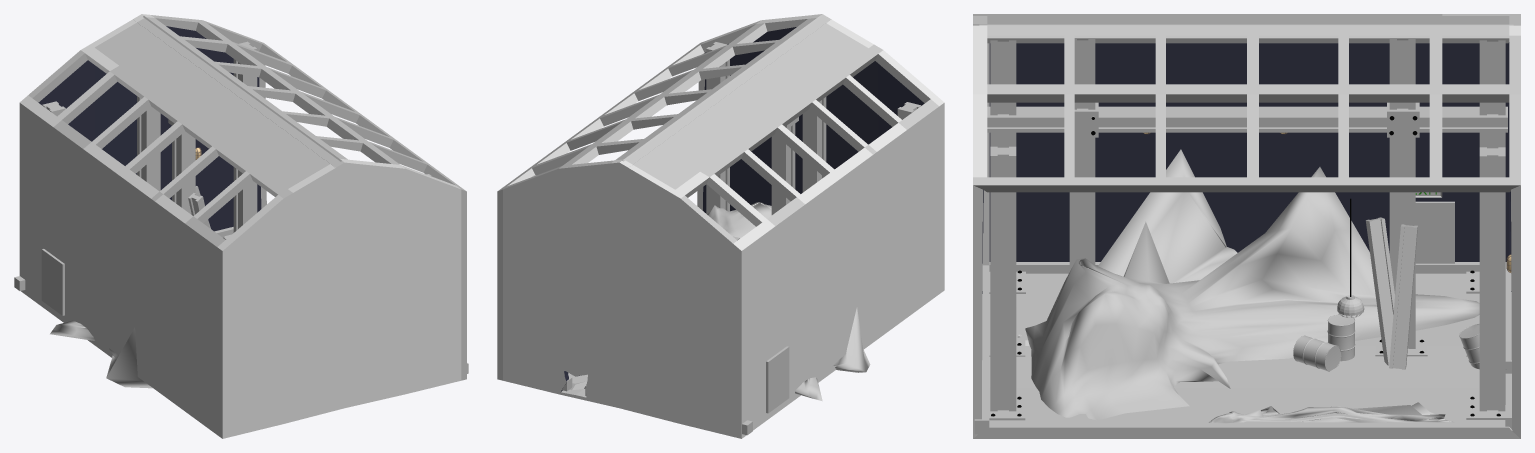
The model's file is 03_HANGAR_3-12_12H45-SAVE_Modif.fbx.
3 views of the same model, side by side, from view 1: azimuth 30°, elevation 25°; view 2: azimuth 150°, elevation 25°; view 3: azimuth 270°, elevation 25° (orthographic). The views are drawn at different scales.
Parts seen in each view (by area): view 1: STRUCTURE.002, Icosphere.002, Cube.008, Cube.026, Cube.009, Cube.019, Cube.005; view 2: STRUCTURE.002, Icosphere.002, Cube.007, Cube.020, Cube.026, Cube.010, Cube.005; view 3: STRUCTURE.002, Icosphere.002, BARRE, Cube.010, Cube.009, Cube.005, Cube.019, Cube.020, Icosphere.001, Poutre métallique.004, Cube.026, Poutre métallique.003 (+12 smaller).
Boxes of the visible parts, x1=… form: STRUCTURE.002: x1=19, y1=14, x2=466, y2=438; Icosphere.002: x1=50, y1=320, x2=152, y2=388; Cube.008: x1=137, y1=96, x2=160, y2=191; Cube.026: x1=41, y1=249, x2=64, y2=315; Cube.009: x1=233, y1=41, x2=257, y2=232; Cube.019: x1=172, y1=131, x2=195, y2=214; Cube.005: x1=143, y1=16, x2=341, y2=161; STRUCTURE.002: x1=497, y1=14, x2=944, y2=438; Icosphere.002: x1=707, y1=202, x2=870, y2=401; Cube.007: x1=802, y1=97, x2=826, y2=192; Cube.020: x1=771, y1=124, x2=795, y2=214; Cube.026: x1=766, y1=346, x2=789, y2=413; Cube.010: x1=706, y1=42, x2=729, y2=213; Cube.005: x1=622, y1=15, x2=821, y2=161; STRUCTURE.002: x1=973, y1=14, x2=1520, y2=438; Icosphere.002: x1=1025, y1=149, x2=1479, y2=420; BARRE: x1=987, y1=106, x2=1507, y2=132; Cube.010: x1=990, y1=146, x2=1016, y2=411; Cube.009: x1=1479, y1=147, x2=1505, y2=411; Cube.005: x1=979, y1=24, x2=1513, y2=43; Cube.019: x1=1389, y1=39, x2=1415, y2=348; Cube.020: x1=1069, y1=39, x2=1095, y2=271; Icosphere.001: x1=1209, y1=402, x2=1453, y2=423; Poutre métallique.004: x1=1389, y1=224, x2=1417, y2=369; Cube.026: x1=1415, y1=201, x2=1454, y2=263; Poutre métallique.003: x1=1365, y1=217, x2=1394, y2=365.
Size of the model in its own units: 11.5 by 10.32 by 14.86.
